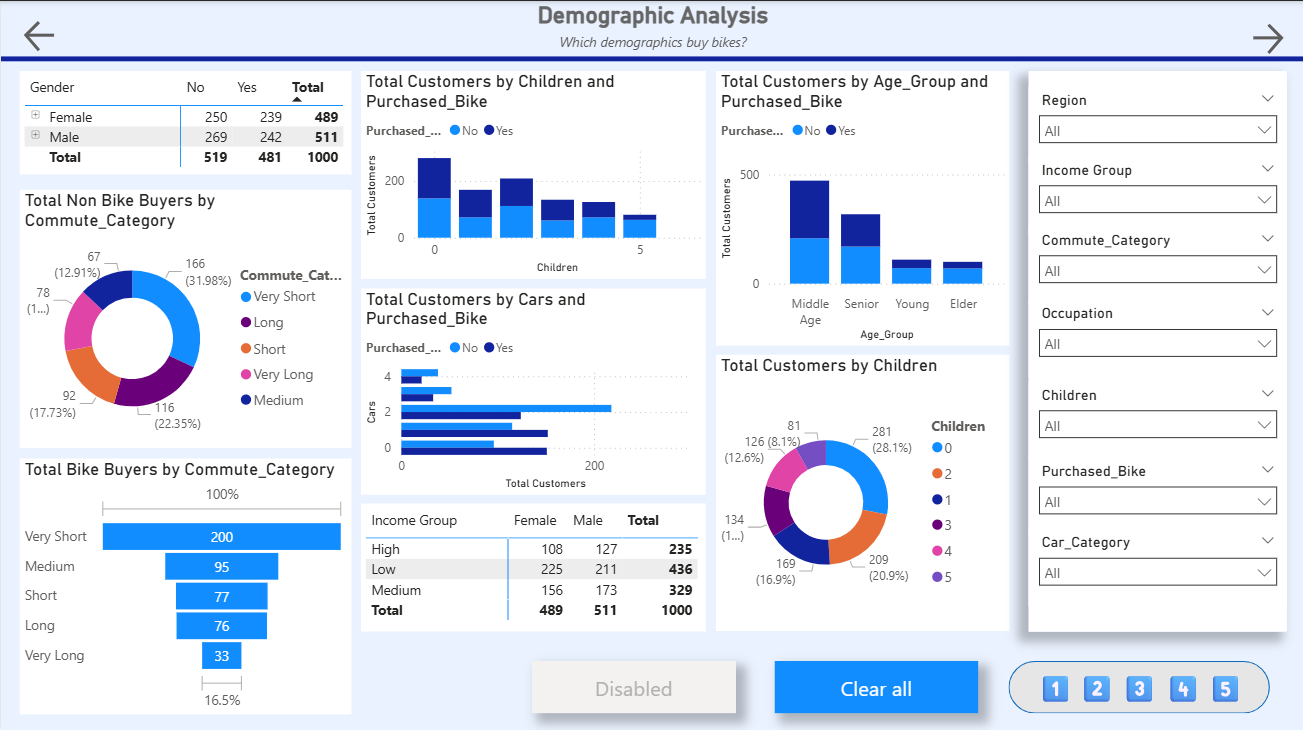

The dashboard page shown, as its layout file describes it:
{"tool":"powerbi","page":{"name":"Demographics Analysis","canvas":[1280,720],"ordinal":2},"visuals":[{"type":"textbox","title":"Demographic Analysis","box":[0,0,1280,68.8],"z":0},{"type":"pivotTable","fields":{"Rows":["Dim_Cus.Gender","Fact_Bike_Sales.Children"],"Columns":["Fact_Bike_Sales.Purchased_Bike"],"Values":["CountNonNull(Fact_Bike_Sales.Customer_Id)"]},"box":[18.5,68.8,325.3,101.8],"z":1000},{"type":"donutChart","fields":{"Category":["Dim_Cus.Commute_Category"],"Y":["Fact_Bike_Sales.Total Non Bike Buyers"]},"box":[18.5,185.1,325.3,253.9],"z":2000},{"type":"funnel","fields":{"Category":["Dim_Cus.Commute_Category"],"Y":["Fact_Bike_Sales.Total Bike Buyers"]},"box":[18.5,449.6,325.3,251.2],"z":3000},{"type":"columnChart","fields":{"Category":["Fact_Bike_Sales.Children"],"Y":["Fact_Bike_Sales.Total Customers"],"Series":["Fact_Bike_Sales.Purchased_Bike"]},"box":[353.1,68.8,338.5,203.6],"z":4000},{"type":"columnChart","fields":{"Category":["Dim_Cus.Age_Group"],"Y":["Fact_Bike_Sales.Total Customers"],"Series":["Fact_Bike_Sales.Purchased_Bike"]},"box":[702.1,68.8,288.3,269.8],"z":5000},{"type":"clusteredBarChart","fields":{"Y":["Fact_Bike_Sales.Total Customers"],"Category":["Fact_Bike_Sales.Cars"],"Series":["Fact_Bike_Sales.Purchased_Bike"]},"box":[353.1,281.7,338.5,202.3],"z":6000},{"type":"pivotTable","fields":{"Rows":["Dim_Cus.Income Group"],"Columns":["Dim_Cus.Gender"],"Values":["Fact_Bike_Sales.Total Customers"]},"box":[353.1,493.2,338.5,125.6],"z":7000},{"type":"donutChart","fields":{"Category":["Fact_Bike_Sales.Children"],"Y":["Fact_Bike_Sales.Total Customers"]},"box":[702.1,347.8,288.3,271.1],"z":8000},{"type":"shape","box":[1008.9,68.8,253.9,550.1],"z":9000},{"type":"slicer","fields":{"Values":["Dim_Cus.Region"]},"box":[1008.9,83.3,253.9,76.7],"z":10000},{"type":"slicer","fields":{"Values":["Dim_Cus.Income Group"]},"box":[1008.9,152.1,253.9,76.7],"z":11000},{"type":"slicer","fields":{"Values":["Dim_Cus.Commute_Category"]},"box":[1008.9,220.8,253.9,76.7],"z":12000},{"type":"slicer","fields":{"Values":["Dim_Cus.Occupation"]},"box":[1008.9,293.6,253.9,76.7],"z":13000},{"type":"slicer","fields":{"Values":["Fact_Bike_Sales.Children"]},"box":[1008.9,372.9,253.9,76.7],"z":14000},{"type":"slicer","fields":{"Values":["Fact_Bike_Sales.Purchased_Bike"]},"box":[1008.9,448.3,253.9,76.7],"z":15000},{"type":"slicer","fields":{"Values":["Dim_Cus.Car_Category"]},"box":[1008.9,518.3,253.9,76.7],"z":16000},{"type":"shape","box":[989.1,647.9,256.5,51.6],"z":17000},{"type":"actionButton","box":[1055.2,654.5,41,39.7],"z":18000},{"type":"actionButton","box":[1097.5,654.5,41,39.7],"z":19000},{"type":"actionButton","box":[1139.8,654.5,41,39.7],"z":20000},{"type":"actionButton","box":[1182.1,654.5,41,39.7],"z":21000},{"type":"actionButton","box":[1014.2,654.5,41,39.7],"z":22000},{"type":"actionButton","box":[759,647.9,199.7,51.6],"z":23000},{"type":"actionButton","box":[521,647.9,199.7,51.6],"z":24000},{"type":"actionButton","box":[1223.1,6.6,39.7,62.1],"z":25000},{"type":"actionButton","box":[18.5,14.5,100.5,39.7],"z":26000}]}

Visuals, with their boxes in screenshot pixels (x1, y1, x2, y2), scaled from the page's 1280x720 canvas onto the 1303x730 screenshot:
"Demographic Analysis" textbox: pyautogui.locateOnScreen(0, 0, 1302, 70)
pivotTable - Dim_Cus.Gender x Fact_Bike_Sales.Children: pyautogui.locateOnScreen(19, 70, 350, 173)
donutChart - Dim_Cus.Commute_Category x Fact_Bike_Sales.Total Non Bike Buyers: pyautogui.locateOnScreen(19, 188, 350, 445)
funnel - Dim_Cus.Commute_Category x Fact_Bike_Sales.Total Bike Buyers: pyautogui.locateOnScreen(19, 456, 350, 711)
columnChart - Fact_Bike_Sales.Children x Fact_Bike_Sales.Total Customers: pyautogui.locateOnScreen(359, 70, 704, 276)
columnChart - Dim_Cus.Age_Group x Fact_Bike_Sales.Total Customers: pyautogui.locateOnScreen(715, 70, 1008, 343)
clusteredBarChart - Fact_Bike_Sales.Total Customers x Fact_Bike_Sales.Cars: pyautogui.locateOnScreen(359, 286, 704, 491)
pivotTable - Dim_Cus.Income Group x Dim_Cus.Gender: pyautogui.locateOnScreen(359, 500, 704, 627)
donutChart - Fact_Bike_Sales.Children x Fact_Bike_Sales.Total Customers: pyautogui.locateOnScreen(715, 353, 1008, 627)
shape: pyautogui.locateOnScreen(1027, 70, 1285, 627)
slicer - Dim_Cus.Region: pyautogui.locateOnScreen(1027, 84, 1285, 162)
slicer - Dim_Cus.Income Group: pyautogui.locateOnScreen(1027, 154, 1285, 232)
slicer - Dim_Cus.Commute_Category: pyautogui.locateOnScreen(1027, 224, 1285, 302)
slicer - Dim_Cus.Occupation: pyautogui.locateOnScreen(1027, 298, 1285, 375)
slicer - Fact_Bike_Sales.Children: pyautogui.locateOnScreen(1027, 378, 1285, 456)
slicer - Fact_Bike_Sales.Purchased_Bike: pyautogui.locateOnScreen(1027, 455, 1285, 532)
slicer - Dim_Cus.Car_Category: pyautogui.locateOnScreen(1027, 525, 1285, 603)
shape: pyautogui.locateOnScreen(1007, 657, 1268, 709)
actionButton: pyautogui.locateOnScreen(1074, 664, 1116, 704)
actionButton: pyautogui.locateOnScreen(1117, 664, 1159, 704)
actionButton: pyautogui.locateOnScreen(1160, 664, 1202, 704)
actionButton: pyautogui.locateOnScreen(1203, 664, 1245, 704)
actionButton: pyautogui.locateOnScreen(1032, 664, 1074, 704)
actionButton: pyautogui.locateOnScreen(773, 657, 976, 709)
actionButton: pyautogui.locateOnScreen(530, 657, 734, 709)
actionButton: pyautogui.locateOnScreen(1245, 7, 1285, 70)
actionButton: pyautogui.locateOnScreen(19, 15, 121, 55)
